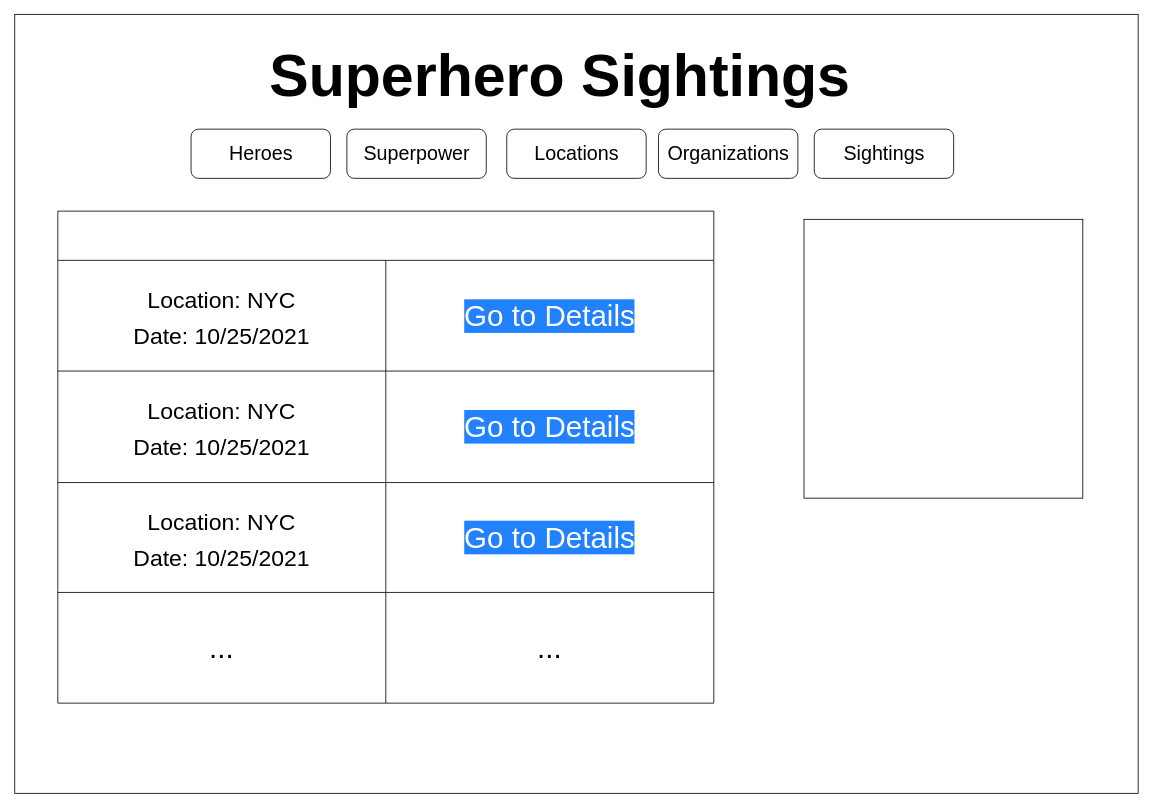
Image size: 1152x808. Some labels were removed from this diagram. Here are the shapes that lost their labels. From the top down, the box of each, then its label:
(803, 219, 1083, 498): Google Maps Here
(57, 210, 714, 703): Last 10 Sightings
